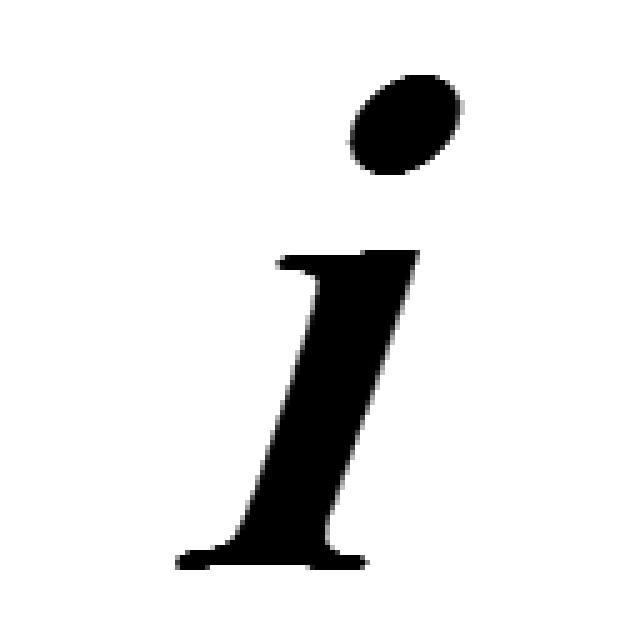I: (166, 72, 462, 562)
